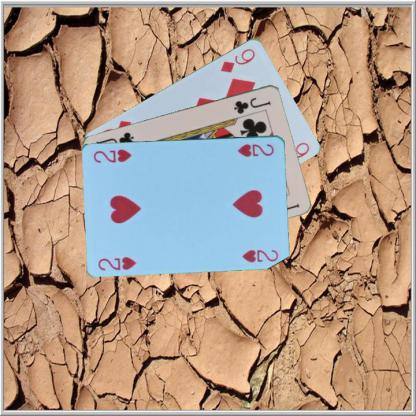2h: (96, 254, 138, 272), (235, 141, 276, 158)
9d: (218, 45, 256, 74)
Jc: (231, 95, 272, 115)
